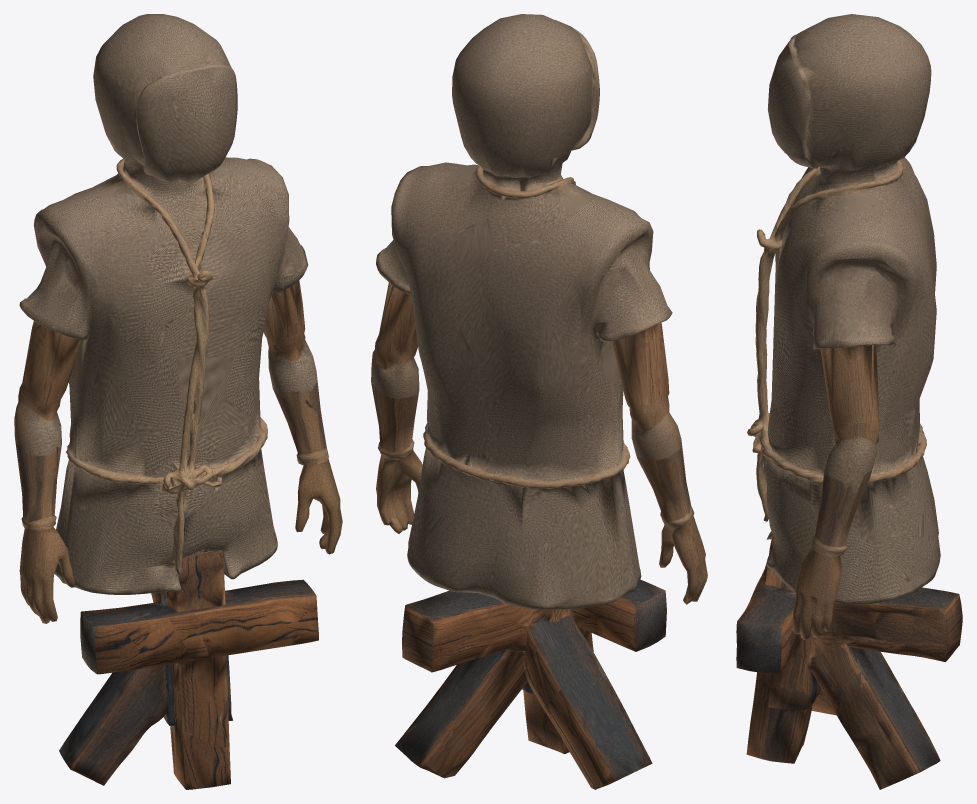
File: dummy.glb
The picture shows the model from 3 angles, left to right: view 1: azimuth 30°, elevation 25°; view 2: azimuth 150°, elevation 25°; view 3: azimuth 270°, elevation 25°; orthographic projection. The views are drawn at different scales.
Visible parts, largest first — view 1: dummy; view 2: dummy; view 3: dummy.
Part boxes in pixels (box(x1,y1,x2,y2)): dummy: box(14, 14, 342, 789); dummy: box(371, 14, 707, 789); dummy: box(736, 14, 962, 789).
Bounding box in the file's own units: 0.8059 × 1.8 × 0.5038.
Materials: 1 (1 with a texture image).
